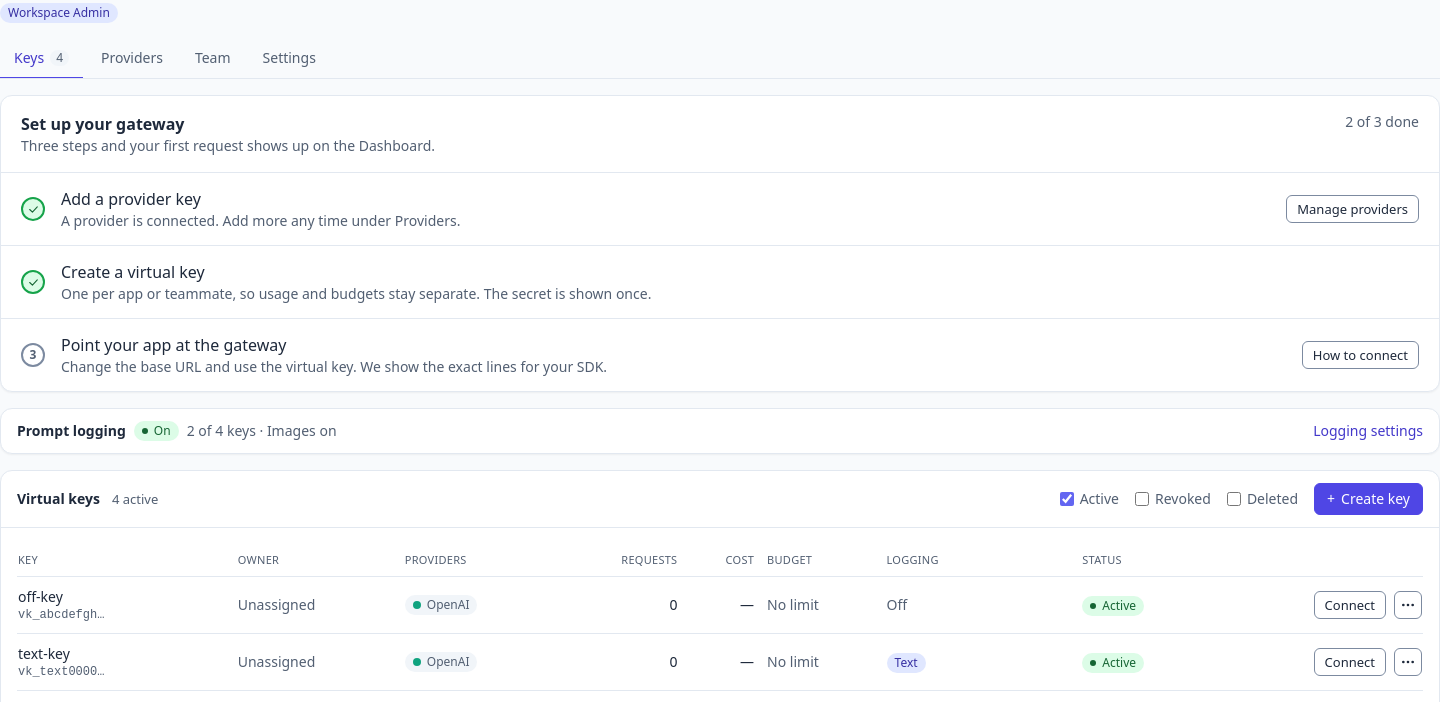
Test: Workspace -> per-key logging › surfaces an update error and leaves the editor usable
The image size is (1440, 702).
Click the button named "More actions for off-key" at (1408, 605), box top-left (1394, 591), bottom-right (1422, 619)
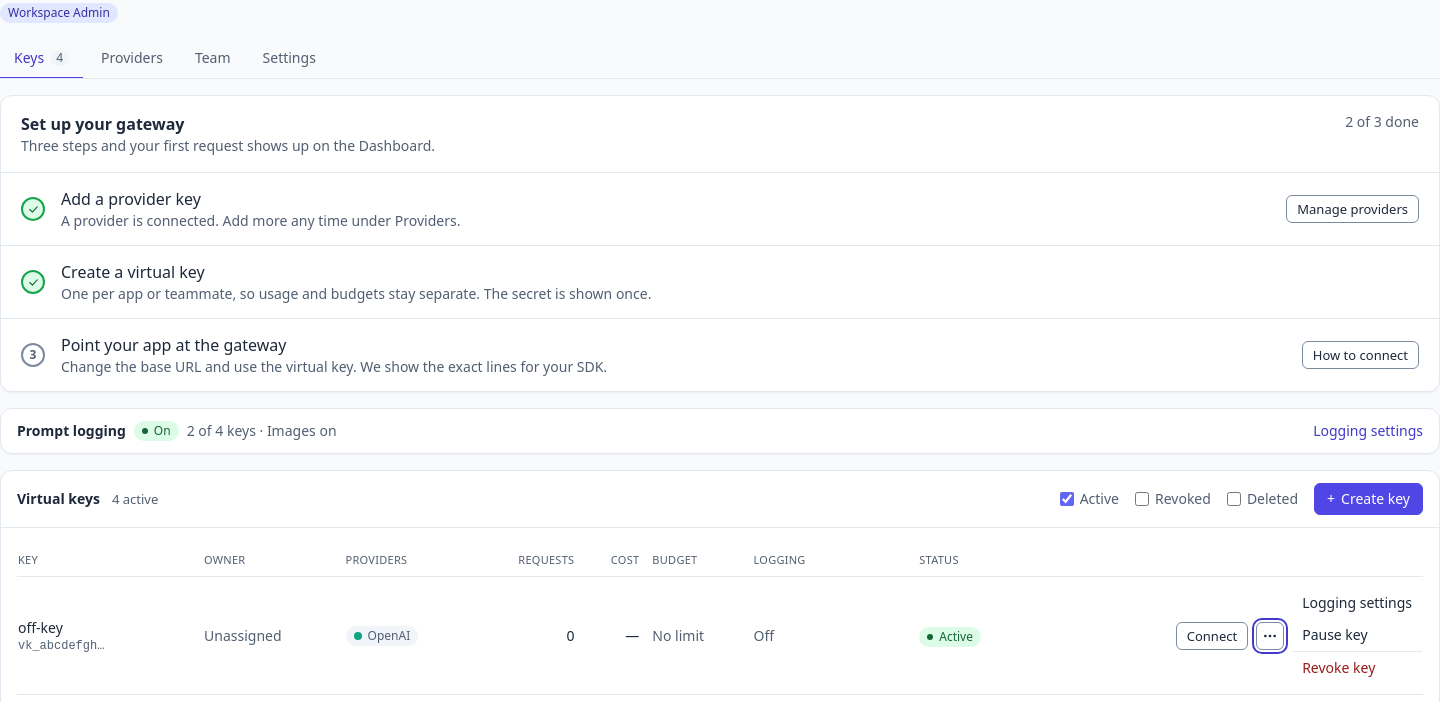
Click the menu item "Logging settings" at (1357, 603), box top-left (1302, 593), bottom-right (1412, 612)
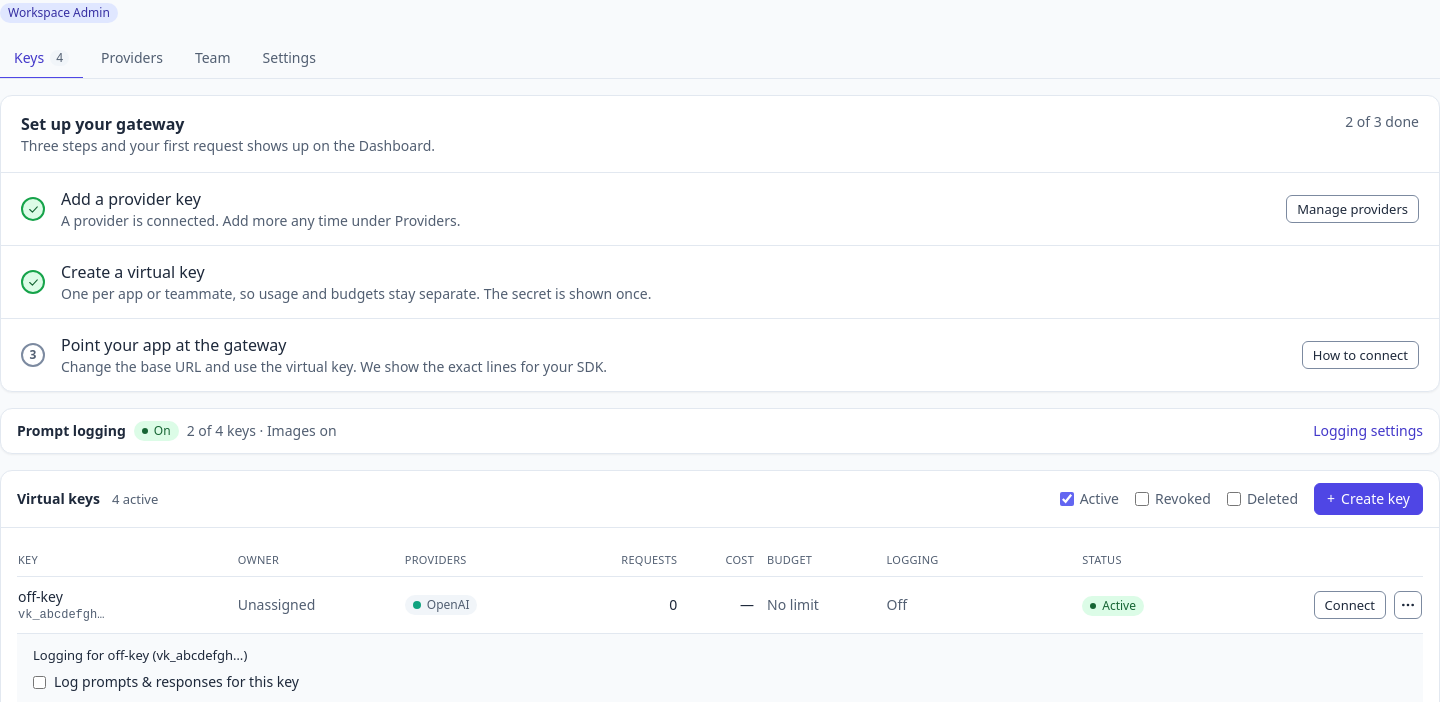
Click the checkbox labelled "Log prompts & responses for this key" at (40, 683), box top-left (33, 676), bottom-right (46, 689)
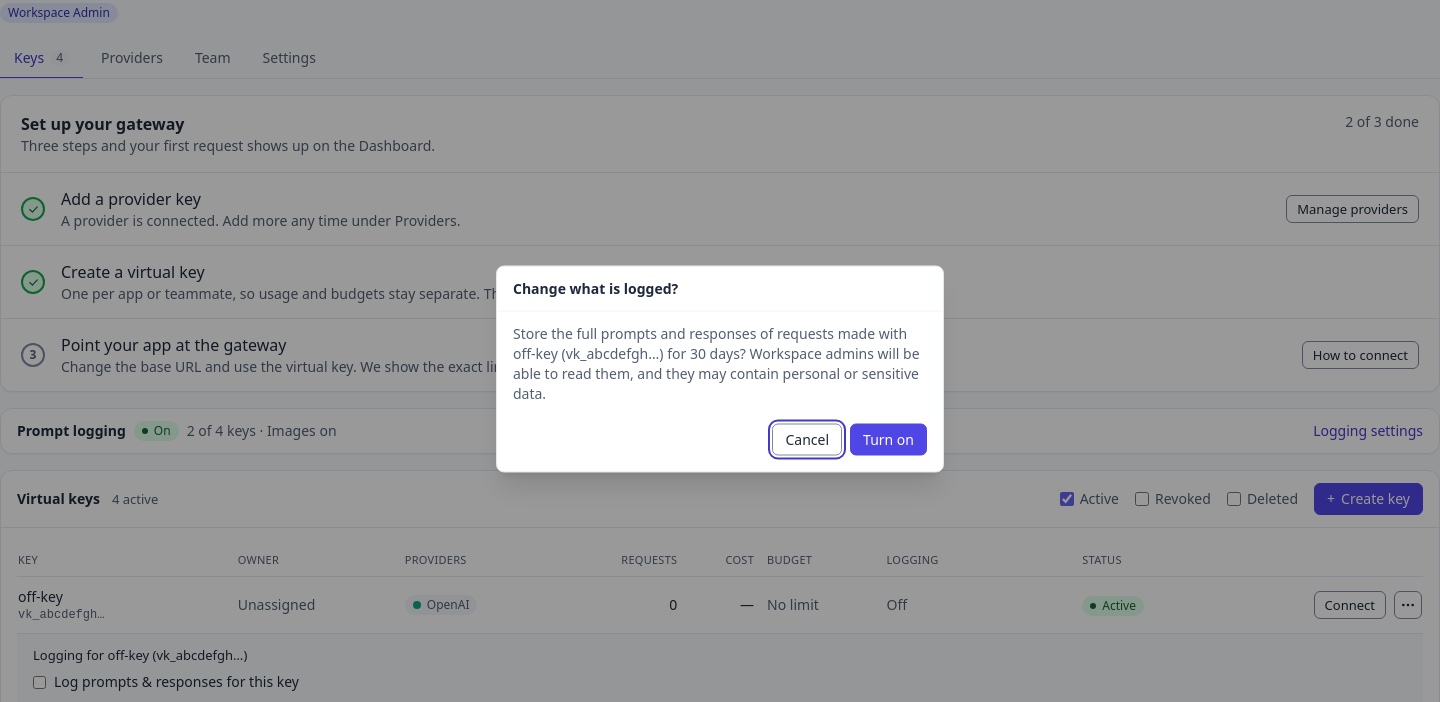
Click the button "Turn on" at (889, 440), box top-left (850, 424), bottom-right (927, 456)
(page scrolled)
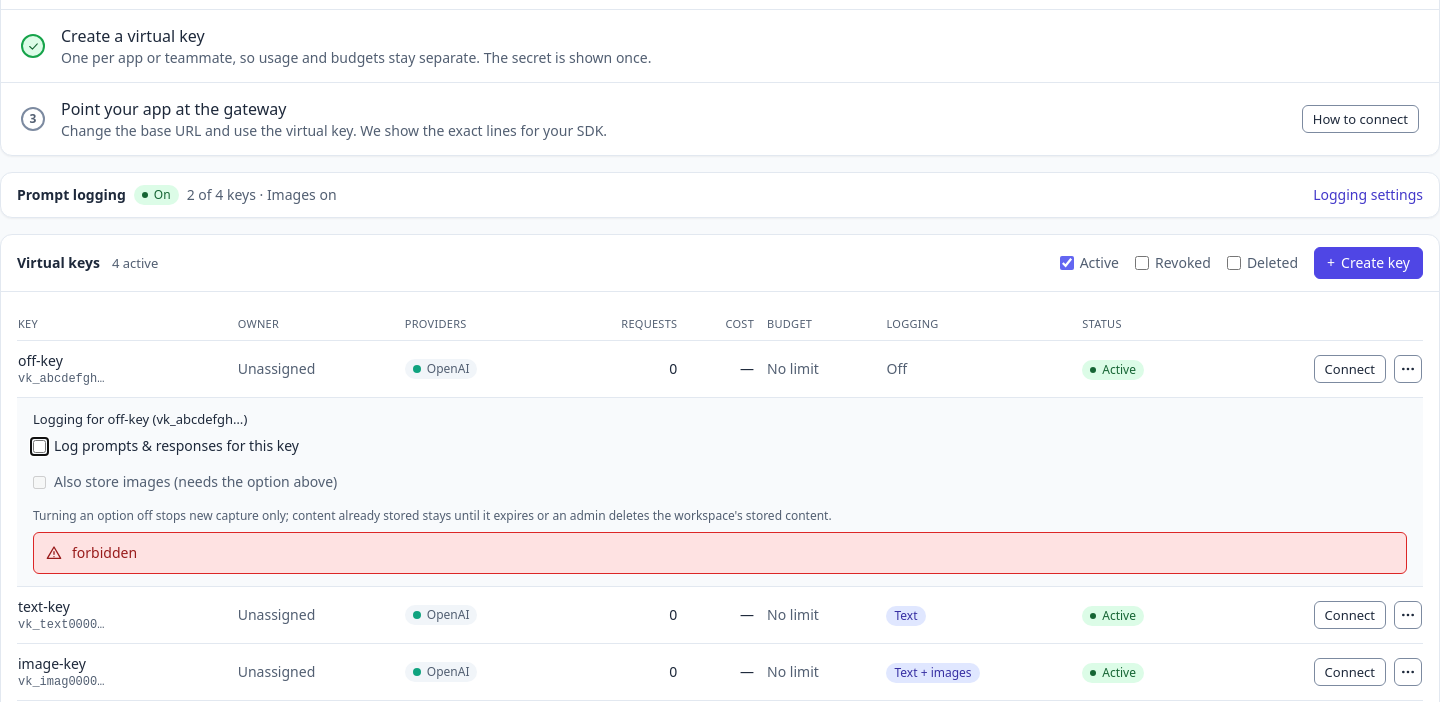
Now the text "forbidden" is shown, box top-left (72, 543), bottom-right (137, 562)
